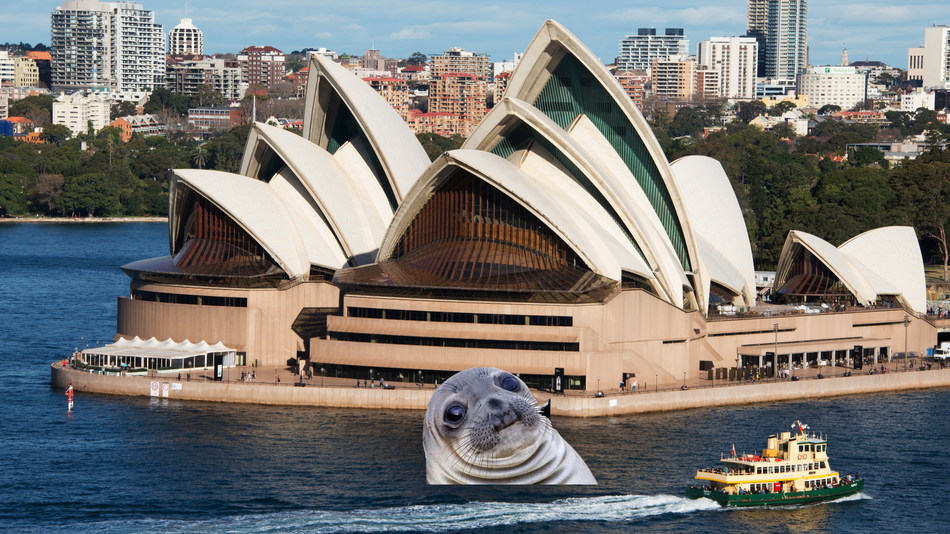opera house: (77, 36, 937, 392)
